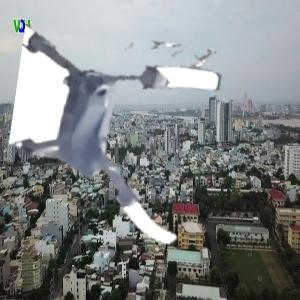drone: (11, 36, 225, 250)
